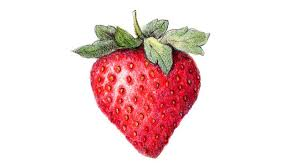strawberry: (74, 8, 210, 160)
